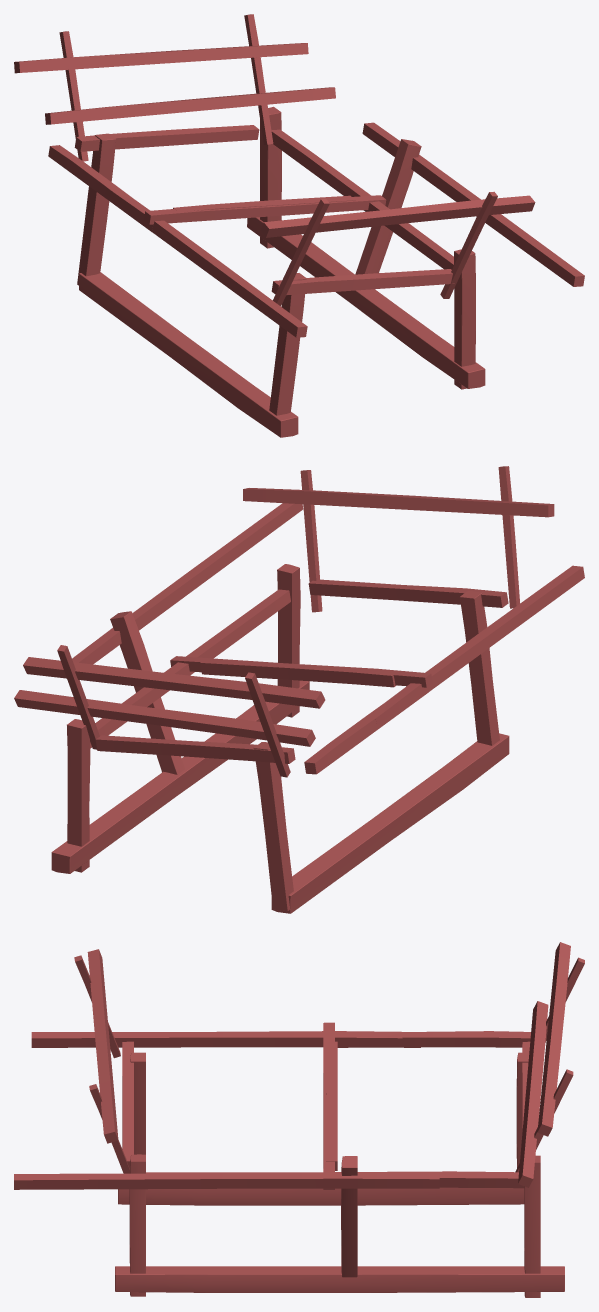
File: Beam_Structure_17A_Lod0.fbx
3 renders of one model, top to bottom at view 1: azimuth 30°, elevation 25°; view 2: azimuth 150°, elevation 25°; view 3: azimuth 270°, elevation 25°, orthographic. The views are drawn at different scales.
Parts seen in each view (by area): view 1: Beam_Structure_17A_Lod0; view 2: Beam_Structure_17A_Lod0; view 3: Beam_Structure_17A_Lod0.
Boxes of the visible parts, left/top/right/bottom form: Beam_Structure_17A_Lod0: left=14, top=14, right=584, bottom=437; Beam_Structure_17A_Lod0: left=14, top=466, right=584, bottom=913; Beam_Structure_17A_Lod0: left=14, top=942, right=584, bottom=1297.
Size of the model in its own units: 163 by 131 by 266.
